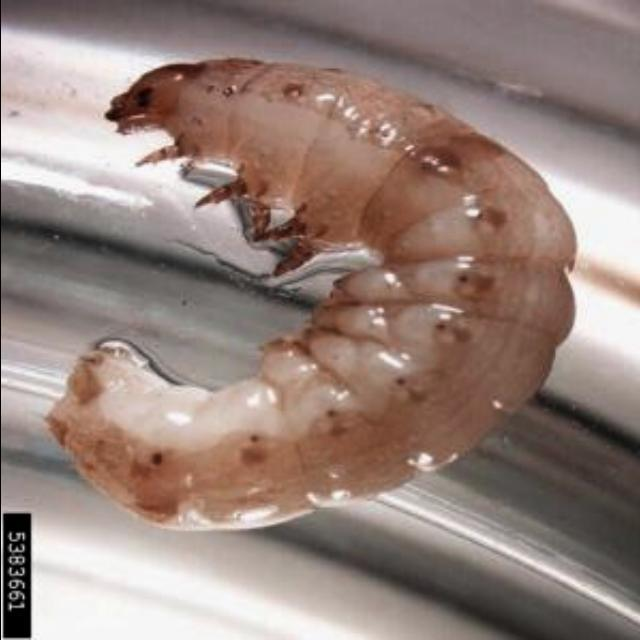Tobacco cutworm: (34, 26, 606, 560)
